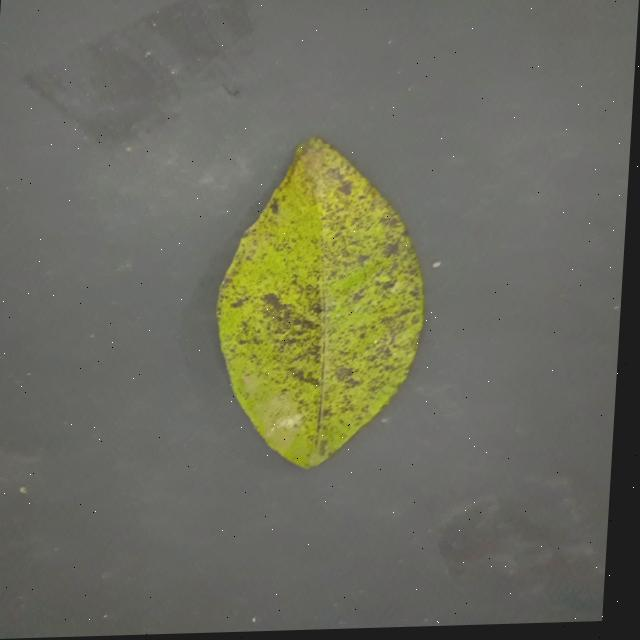greasy_spot: (216, 138, 423, 468)
